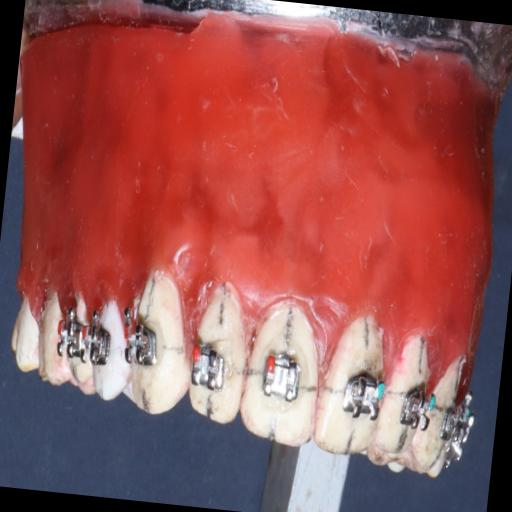incorrect_brace: (184, 279, 255, 427), (258, 352, 304, 405), (189, 344, 226, 391)
